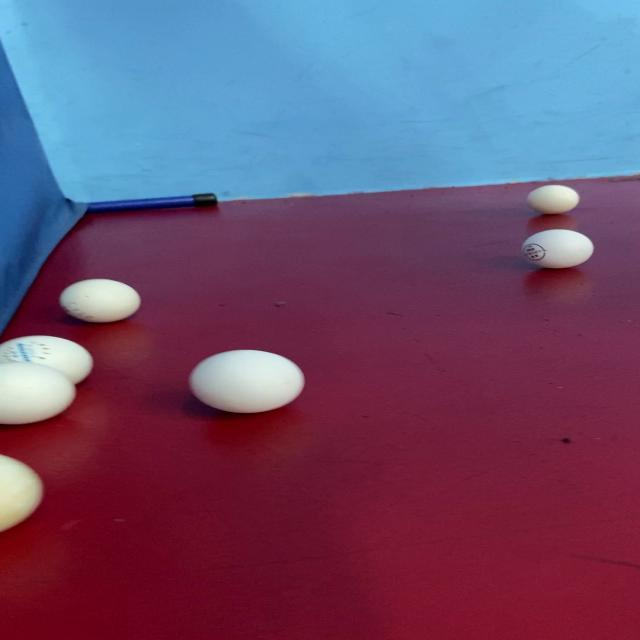ping-pong-ball: (172, 344, 318, 421), (496, 224, 620, 284), (0, 353, 93, 431), (46, 269, 152, 333), (0, 329, 111, 389), (0, 448, 50, 548), (511, 177, 593, 220)
